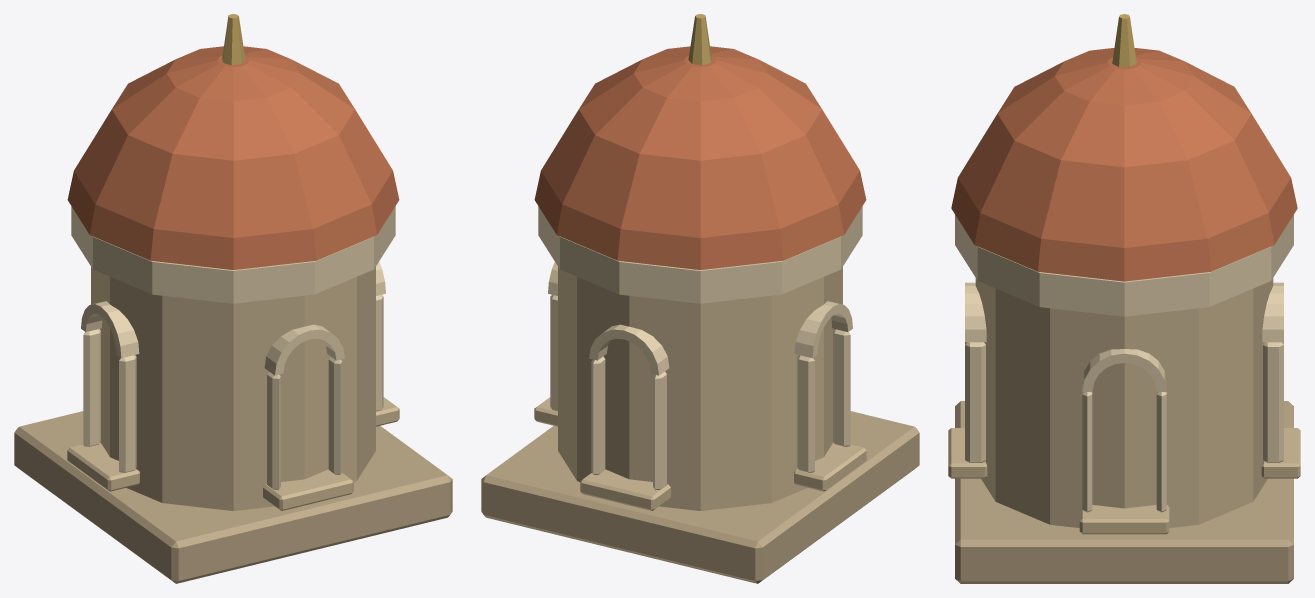
Rendered from city-dome.glb.
3 renders of one model, left to right at view 1: azimuth 30°, elevation 25°; view 2: azimuth 150°, elevation 25°; view 3: azimuth 270°, elevation 25°, orthographic. The views are drawn at different scales.
Visible parts, largest first — view 1: Cube; view 2: Cube; view 3: Cube.
Part boxes in pixels (<box>): Cube: <box>14,14,452,583</box>; Cube: <box>481,14,919,583</box>; Cube: <box>948,14,1300,583</box>.
Size of the model in its own units: 0.374 by 0.584 by 0.374.
